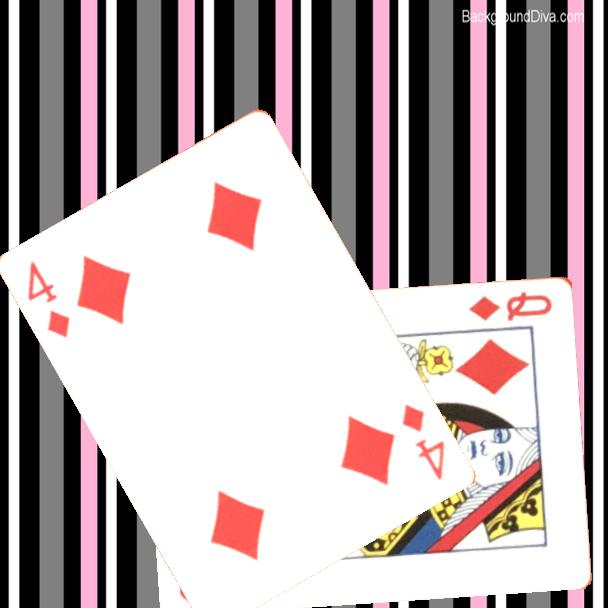d04: (22, 257, 73, 341), (397, 400, 447, 483)
d12: (465, 287, 556, 323)
